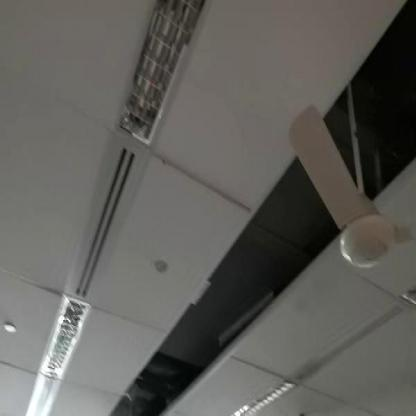light_off: (96, 0, 222, 156), (20, 271, 98, 415)
